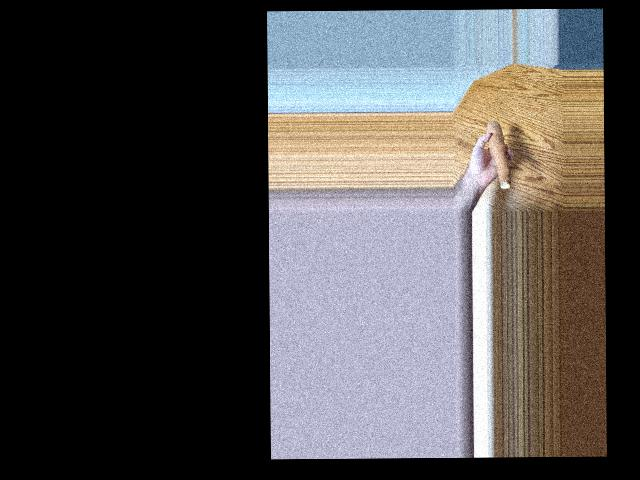sweet_potato: (490, 116, 509, 192)
